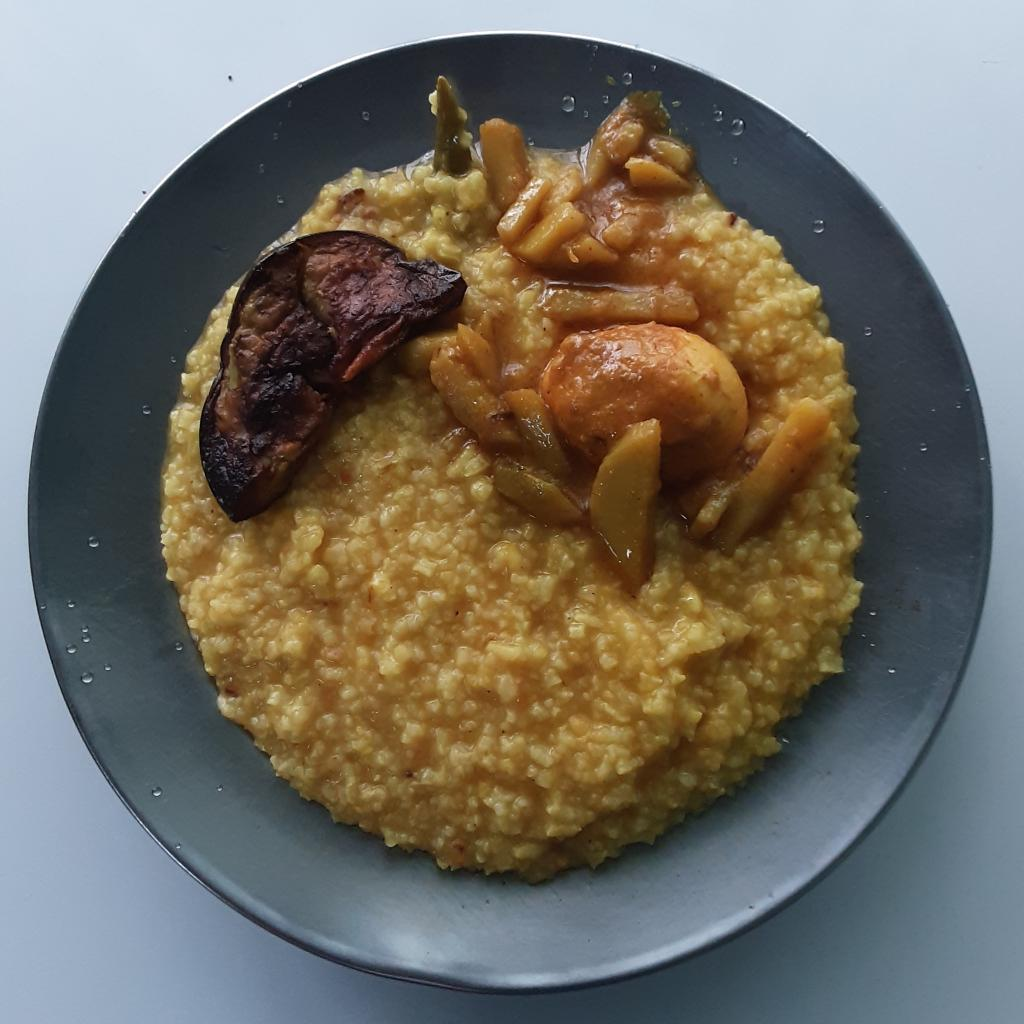begun-vaji: (200, 222, 466, 530)
egg-boiled: (537, 325, 745, 481)
khichuri: (154, 138, 867, 885)
potato: (397, 319, 826, 592), (477, 86, 700, 334)
